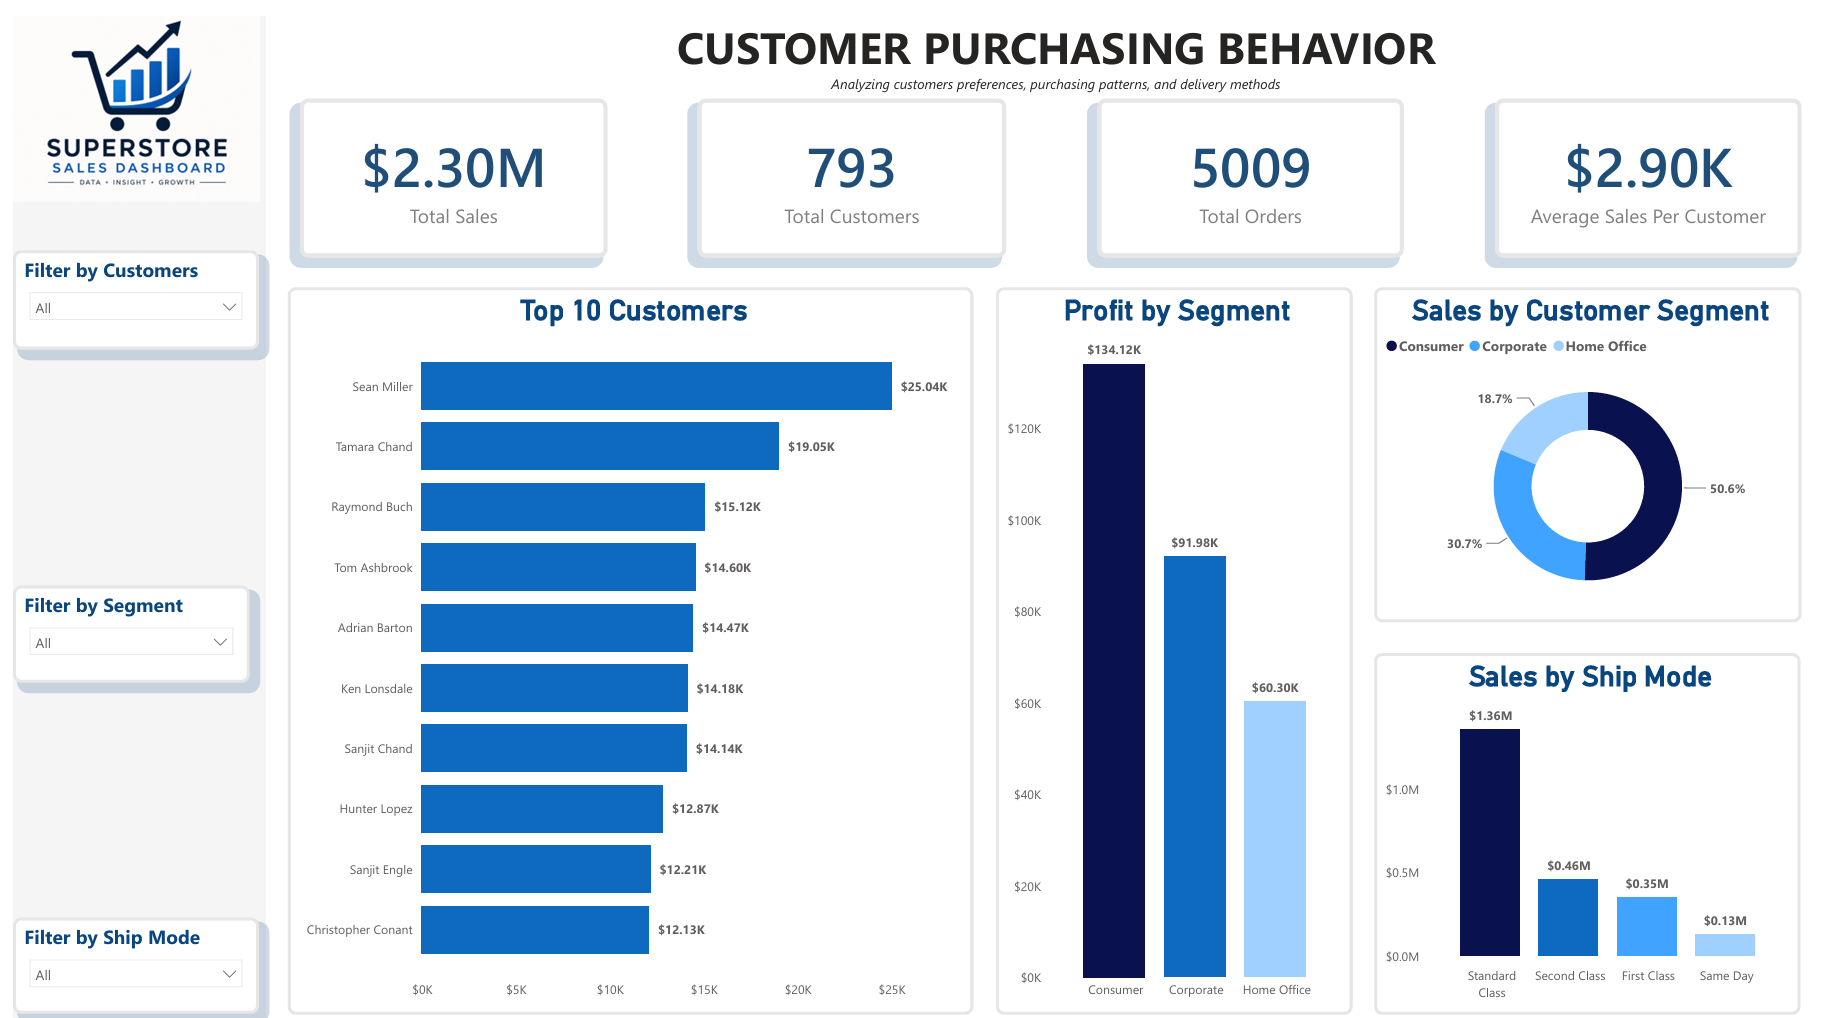

Layout of this report page (visuals, bound fields, positions):
{"tool":"powerbi","page":{"name":"Customer Analysis","canvas":[1779,1007],"ordinal":2},"visuals":[{"type":"textbox","box":[10,0,280,280],"z":0},{"type":"cardVisual","fields":{"Data":["Sample - Superstore.Total Sales"]},"box":[254.9,87.1,300.9,140.9],"z":1000},{"type":"shape","box":[0,0,1780.5,1006.9],"z":2000},{"type":"cardVisual","fields":{"Data":["Sample - Superstore.Total Orders"]},"box":[446.2,393.5,296.7,141],"z":3000},{"type":"cardVisual","fields":{"Data":["Sample - Superstore.Total Profit"]},"box":[492.5,393.5,298.8,141],"z":4000},{"type":"donutChart","title":" Sales by Customer Segment","fields":{"Category":["Sample - Superstore.Segment"],"Y":["Sample - Superstore.Total Sales"]},"box":[1328.4,264.4,416.4,326.2],"z":5000},{"type":"cardVisual","fields":{"Data":["Sample - Superstore.Total Customers"]},"box":[431.4,362,296.7,141],"z":6000},{"type":"barChart","title":"Top 10 Customers ","fields":{"Category":["Sample - Superstore.Customer Name"],"Y":["Sample - Superstore.Total Sales"]},"box":[267.6,264.4,669.8,709.3],"z":7000},{"type":"clusteredColumnChart","title":"Sales by Ship Mode","fields":{"Category":["Sample - Superstore.Ship Mode"],"Y":["Sample - Superstore.Total Sales"]},"box":[1328,620.9,416.3,353.5],"z":8000},{"type":"clusteredColumnChart","title":"Profit by Segment","fields":{"Category":["Sample - Superstore.Segment"],"Y":["Sample - Superstore.Total Profits"]},"box":[958.7,264.4,348.3,709.3],"z":9000},{"type":"textbox","box":[254.9,0,1524.8,102.9],"z":10000},{"type":"cardVisual","fields":{"Data":["Sample - Superstore.Total Sales"]},"box":[280.2,79.6,299.2,155.2],"z":11000},{"type":"cardVisual","fields":{"Data":["Sample - Superstore.Total Customers"]},"box":[668.3,79.6,300.9,155.7],"z":12000},{"type":"cardVisual","fields":{"Data":["Sample - Superstore.Total Orders"]},"box":[1058.1,79.6,298.8,155.7],"z":13000},{"type":"cardVisual","fields":{"Data":["Sample - Superstore.Average Sales Per Customer"]},"box":[1445.8,79.6,298.8,155.7],"z":14000},{"type":"shape","box":[0,0,246.2,1006],"z":15000},{"type":"slicer","title":"Filter by Customers","fields":{"Values":["Sample - Superstore.Customer Name"]},"box":[0,227.9,240.5,96.9],"z":16000},{"type":"slicer","title":"Filter by Segment","fields":{"Values":["Sample - Superstore.Segment"]},"box":[0,554.5,231.5,95.1],"z":17000},{"type":"slicer","title":"Filter by Ship Mode","fields":{"Values":["Sample - Superstore.Ship Mode"]},"box":[0,879.3,240.5,93.3],"z":18000},{"type":"image","box":[0,0,239.9,181],"z":19000}]}

Visuals, with their boxes in screenshot pixels (x1, y1, x2, y2), scaled from the page's 1779x1007 canvas onto the 1825x1018 screenshot:
textbox: left=10, top=0, right=297, bottom=283
cardVisual - Sample - Superstore.Total Sales: left=261, top=88, right=570, bottom=230
shape: left=0, top=0, right=1824, bottom=1017
cardVisual - Sample - Superstore.Total Orders: left=458, top=398, right=762, bottom=540
cardVisual - Sample - Superstore.Total Profit: left=505, top=398, right=812, bottom=540
" Sales by Customer Segment" donutChart: left=1363, top=267, right=1790, bottom=597
cardVisual - Sample - Superstore.Total Customers: left=443, top=366, right=747, bottom=508
"Top 10 Customers " barChart: left=275, top=267, right=962, bottom=984
"Sales by Ship Mode" clusteredColumnChart: left=1362, top=628, right=1789, bottom=985
"Profit by Segment" clusteredColumnChart: left=983, top=267, right=1341, bottom=984
textbox: left=261, top=0, right=1824, bottom=104
cardVisual - Sample - Superstore.Total Sales: left=287, top=80, right=594, bottom=237
cardVisual - Sample - Superstore.Total Customers: left=686, top=80, right=994, bottom=238
cardVisual - Sample - Superstore.Total Orders: left=1085, top=80, right=1392, bottom=238
cardVisual - Sample - Superstore.Average Sales Per Customer: left=1483, top=80, right=1790, bottom=238
shape: left=0, top=0, right=253, bottom=1017
"Filter by Customers" slicer: left=0, top=230, right=247, bottom=328
"Filter by Segment" slicer: left=0, top=561, right=237, bottom=657
"Filter by Ship Mode" slicer: left=0, top=889, right=247, bottom=983
image: left=0, top=0, right=246, bottom=183
